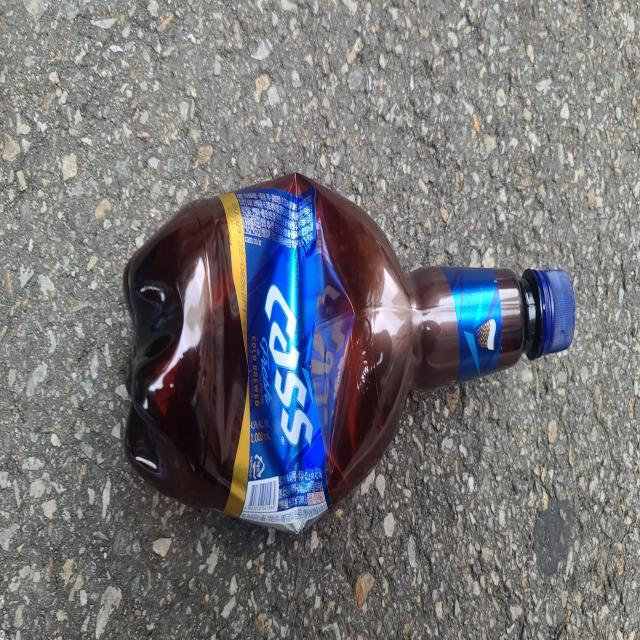plastic: (123, 172, 576, 532)
